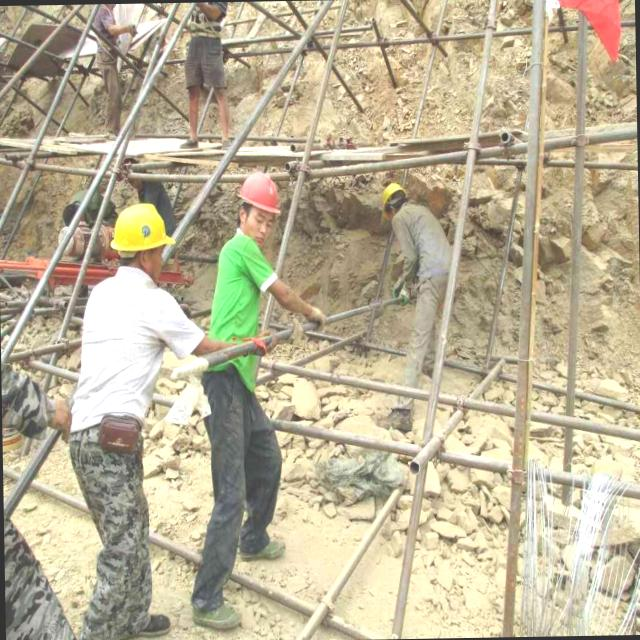helmet: (106, 204, 174, 253), (237, 163, 283, 217)
no-vest: (81, 282, 166, 438), (220, 254, 270, 396), (393, 197, 453, 286)
